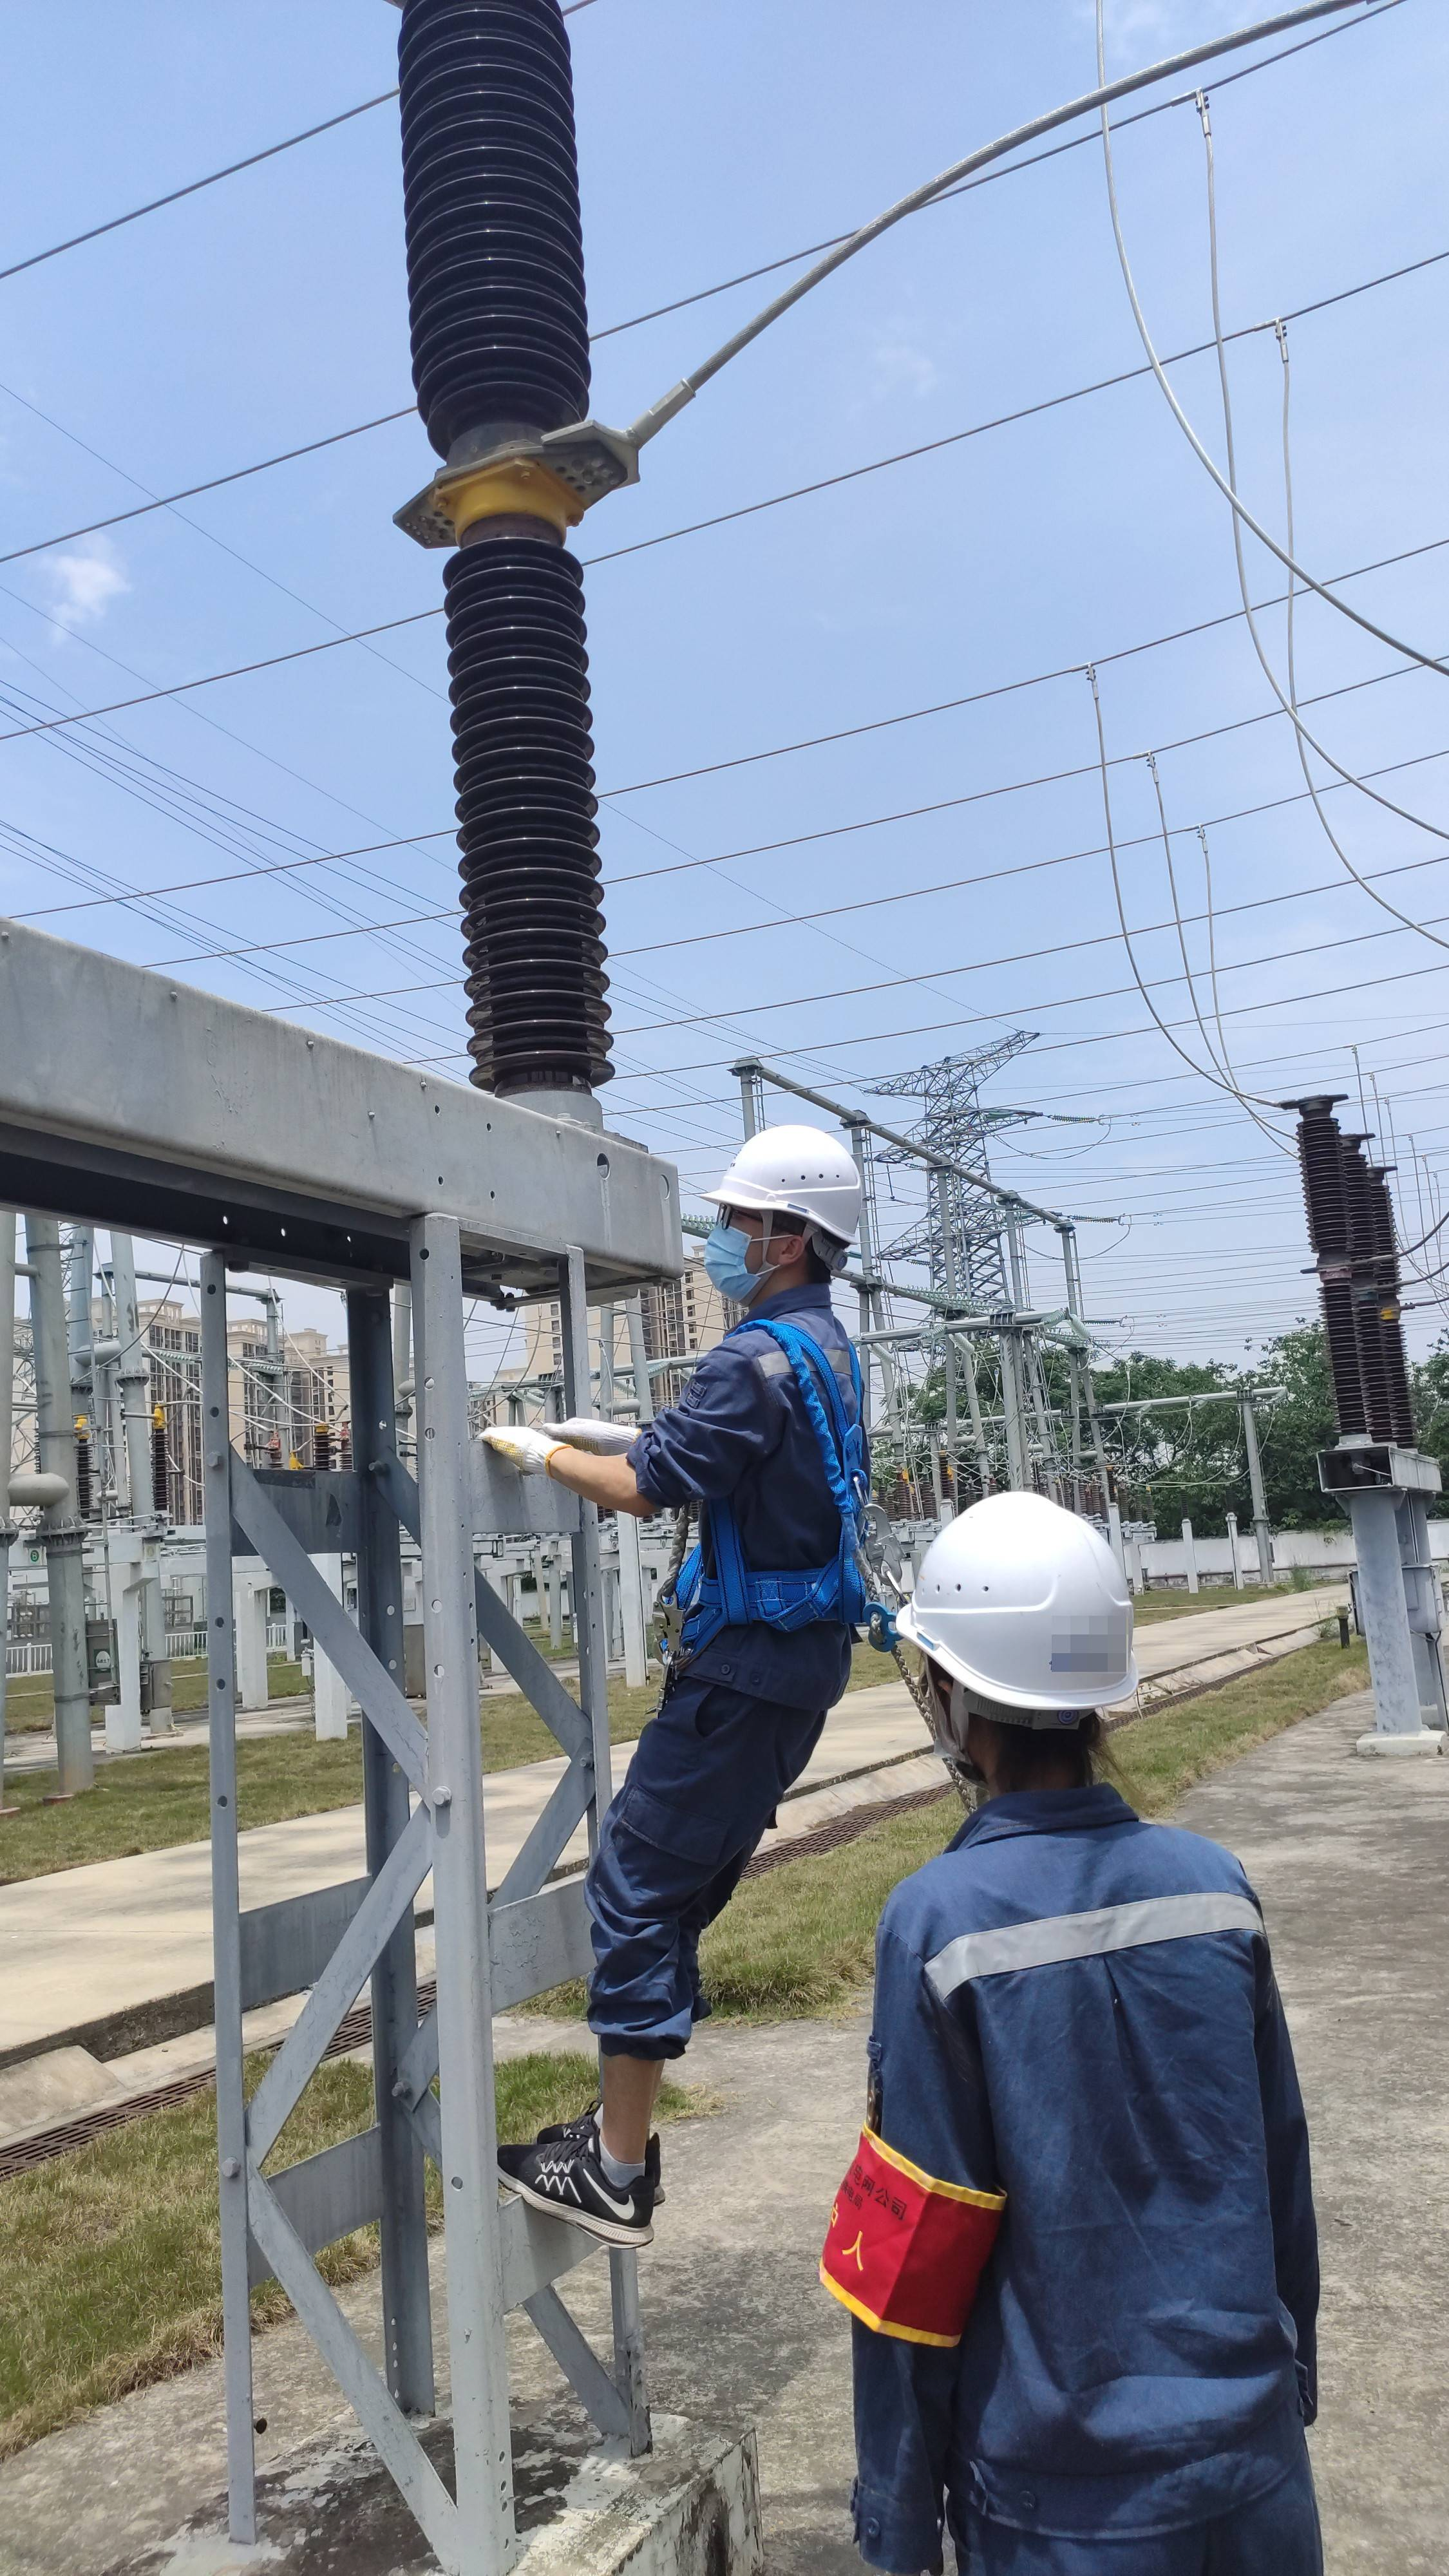downsuit: (571, 1691, 814, 2056)
upsuit: (819, 1801, 1334, 2507), (632, 1290, 878, 1647)
wrongbottom: (591, 1992, 697, 2174)
wrongtop: (552, 1438, 690, 1518)
